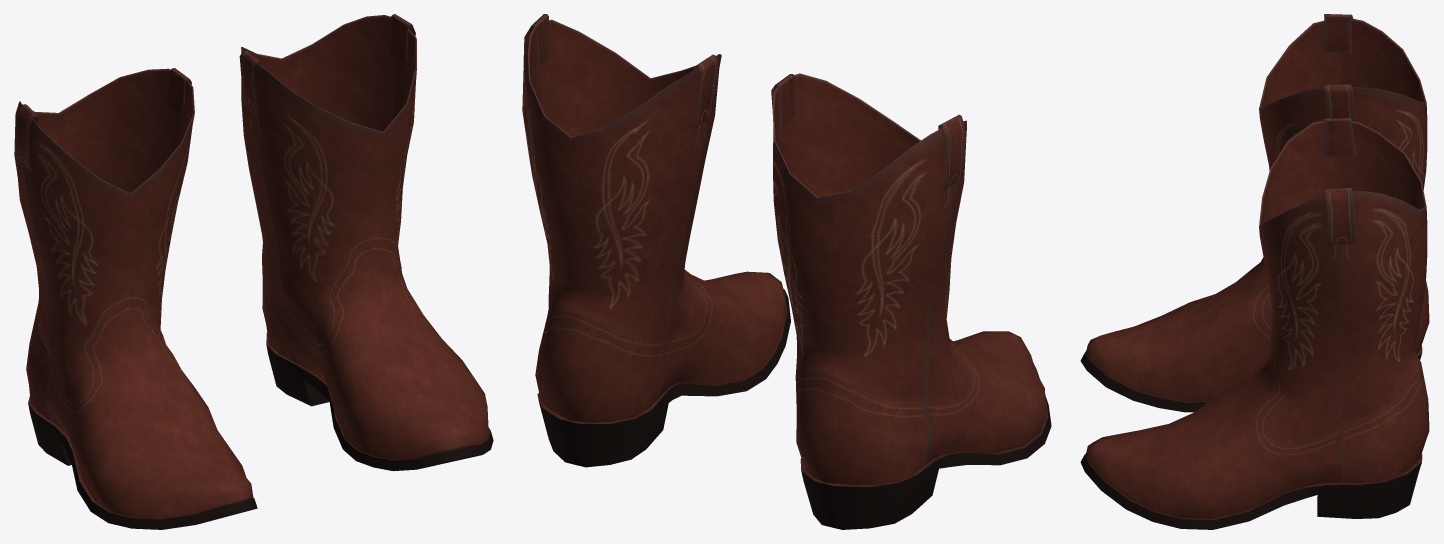
File: Cowbabby_Boots.glb
The picture shows the model from 3 angles, left to right: view 1: azimuth 30°, elevation 25°; view 2: azimuth 150°, elevation 25°; view 3: azimuth 270°, elevation 25°; orthographic projection. The views are drawn at different scales.
Visible parts, largest first — view 1: Cowbabby Boots; view 2: Cowbabby Boots; view 3: Cowbabby Boots.
Part boxes in pixels (x1,y1,x2,y2): Cowbabby Boots: (14, 14, 493, 529); Cowbabby Boots: (522, 14, 1051, 529); Cowbabby Boots: (1080, 14, 1429, 529).
Bounding box in the file's own units: 0.9848 × 0.8705 × 0.7991.
Materials: 1 (1 with a texture image).
